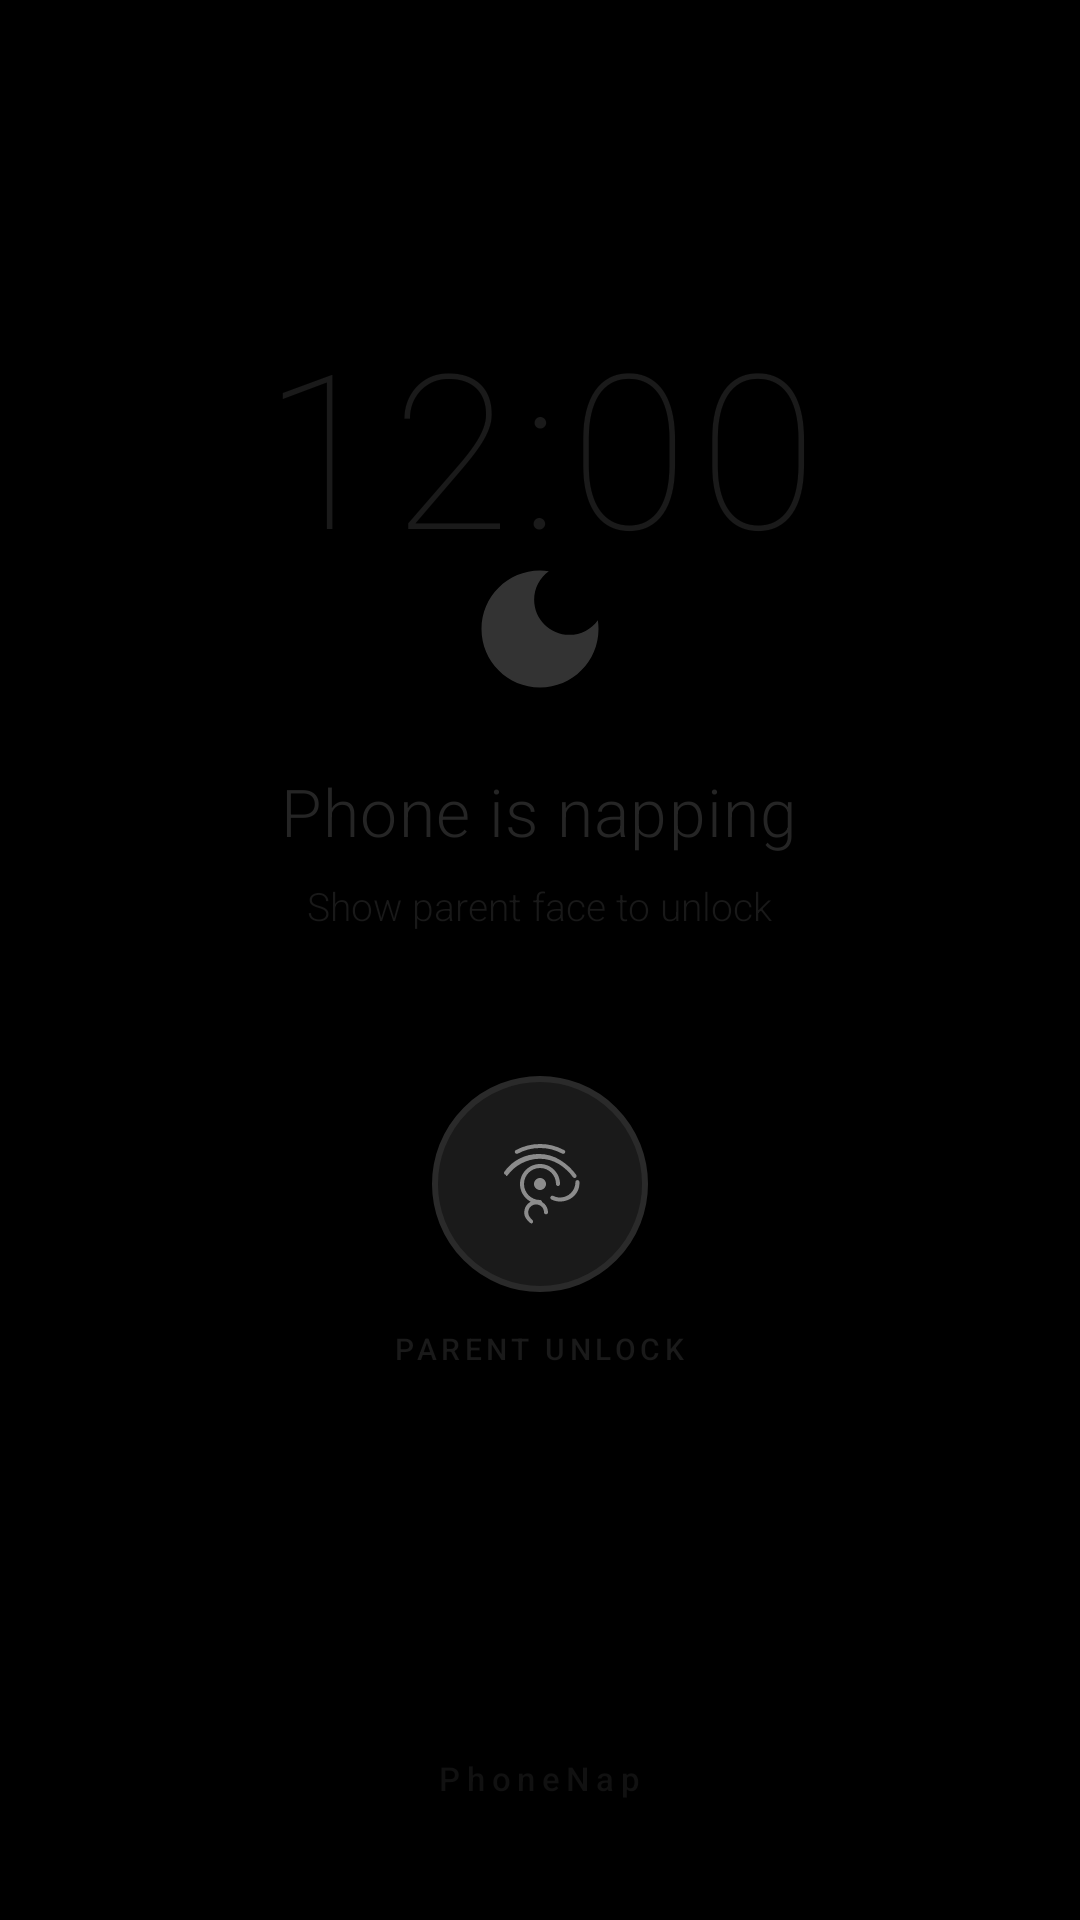

Named icons in this screenshot (1080px×1920px) and their centers, [x,y]:
fingerprint: [542,1184]
